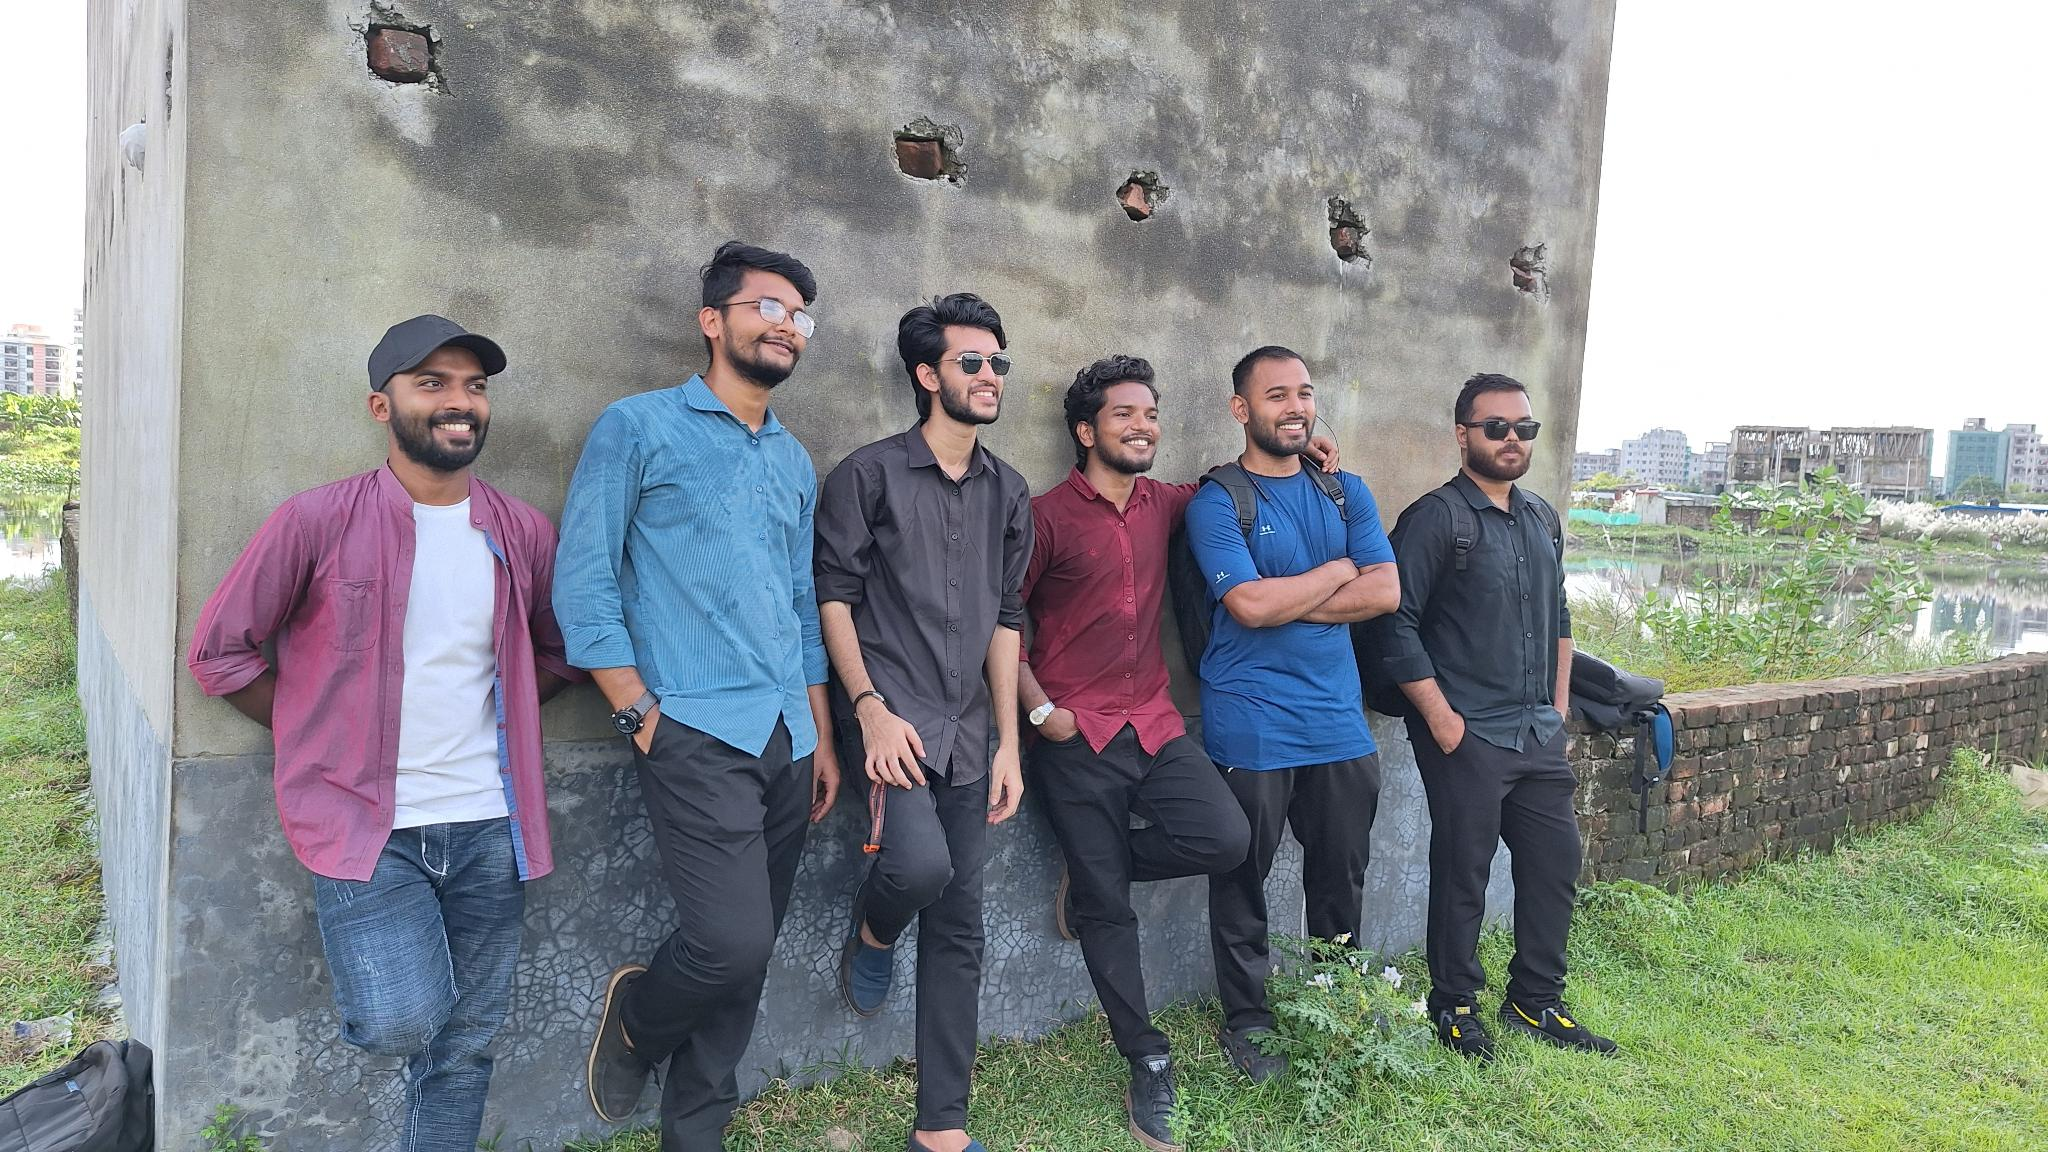nonSmoker: (188, 308, 564, 1152), (558, 236, 841, 1152), (816, 291, 1037, 1152), (1025, 347, 1250, 1152), (1369, 367, 1616, 1069), (1197, 346, 1400, 1090)
